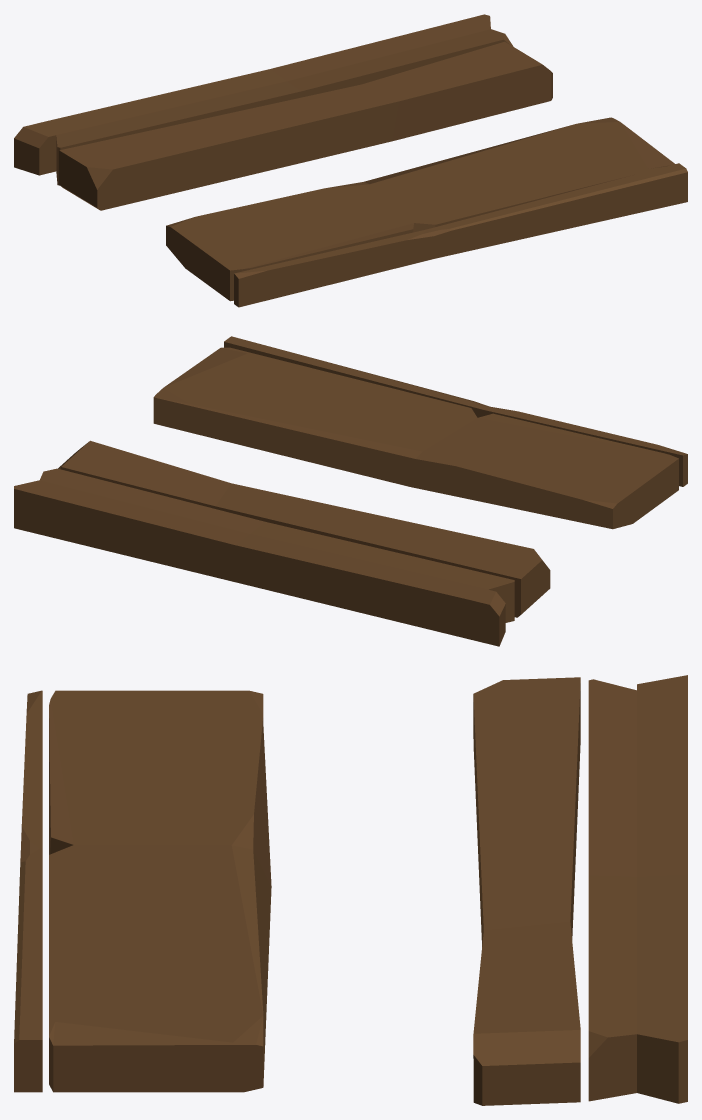
Rendered from Wood_Planks.fbx.
3 renders of one model, top to bottom at view 1: azimuth 30°, elevation 25°; view 2: azimuth 150°, elevation 25°; view 3: azimuth 270°, elevation 25°, orthographic. The views are drawn at different scales.
Visible parts, largest first — view 1: Cube.003, Cube; view 2: Cube.003, Cube; view 3: Cube, Cube.003.
Boxes of the visible parts, x1,y1,x2,y2 form: Cube.003: (14,14,552,210); Cube: (166,117,687,307); Cube.003: (14,440,550,646); Cube: (153,336,687,529); Cube: (14,690,271,1092); Cube.003: (473,675,687,1105).
Size of the model in its own units: 830 by 71.81 by 628.
